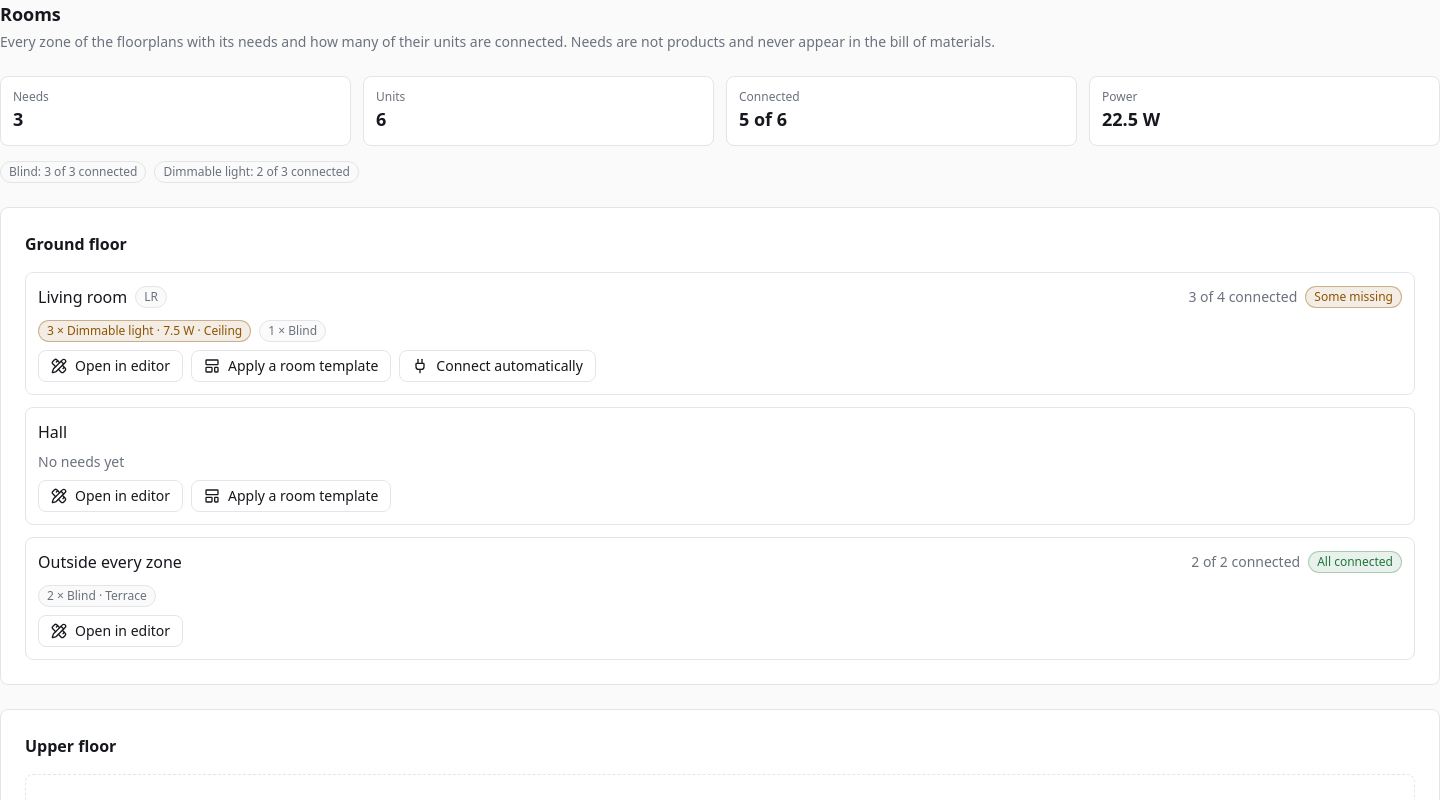
Test: NeedsTab › connects one zone automatically through the existing dialog, scoped to that zone
Step 1. Click the button with aria-label "Connect Living room automatically" → x=498, y=366, box [399,350,596,382]
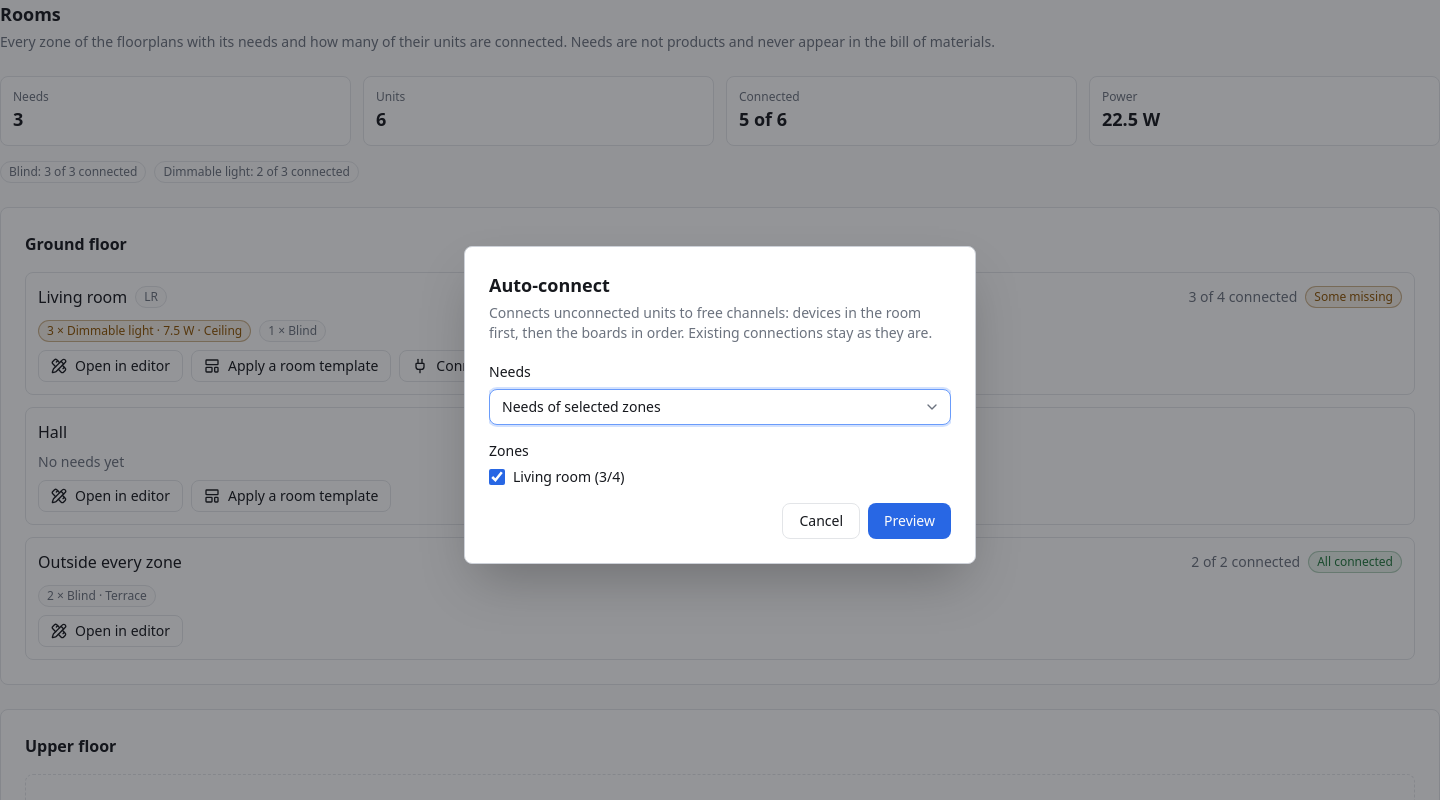
Expected: the checkbox labelled "Living room (3/4)" is checked, [489,469,505,485]
Step 2. Click the button "Preview" → x=910, y=521, box [868,503,951,539]
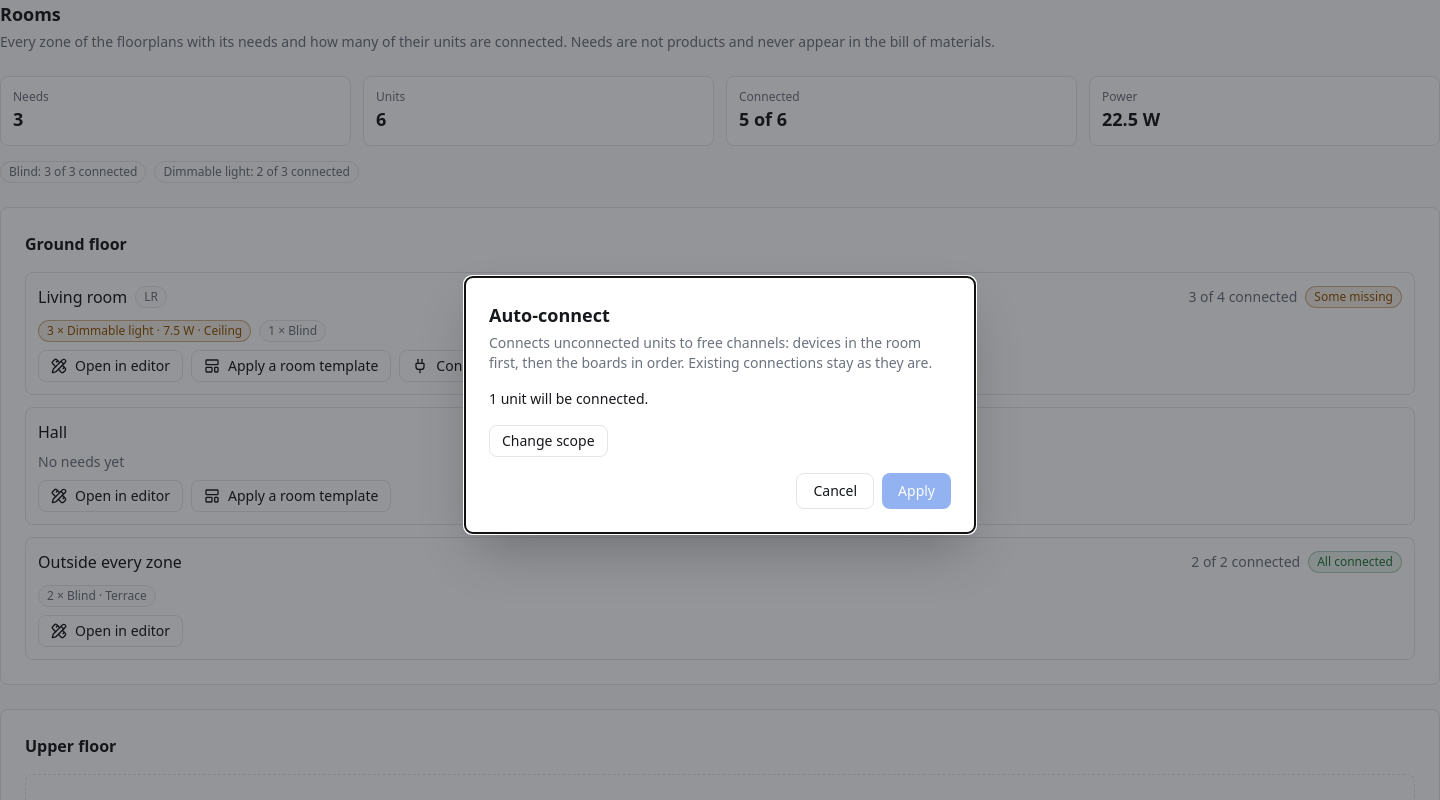
Expected: the text "1 unit will be connected." is shown, [489,389,648,408]
